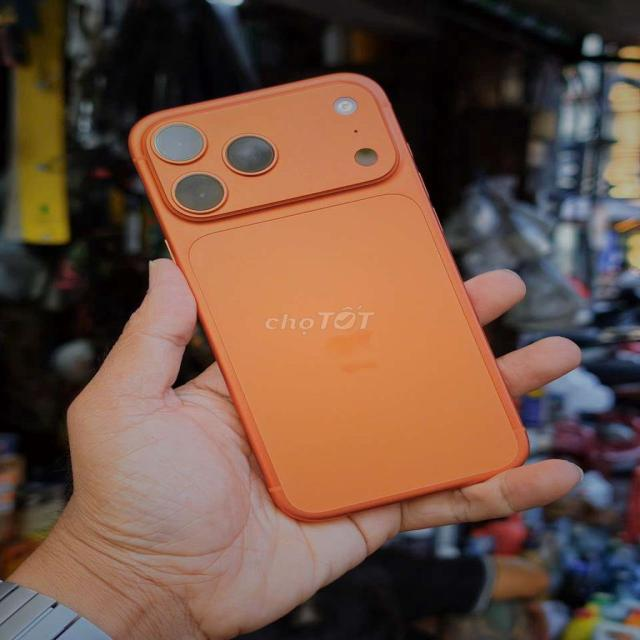gen_17: (133, 73, 545, 523)
